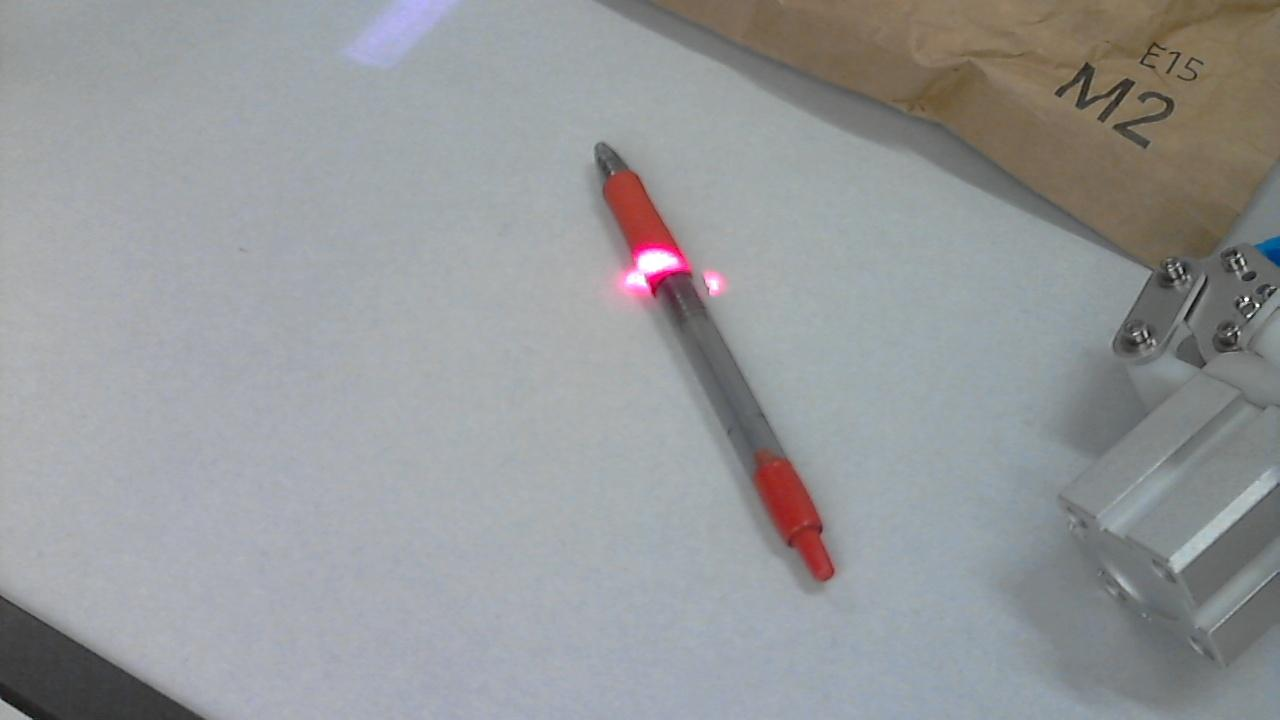Object ballpoint pen - Material rubber - Color red - Pdfname Tg2wygrqE5uZ: (628, 245, 696, 277)
